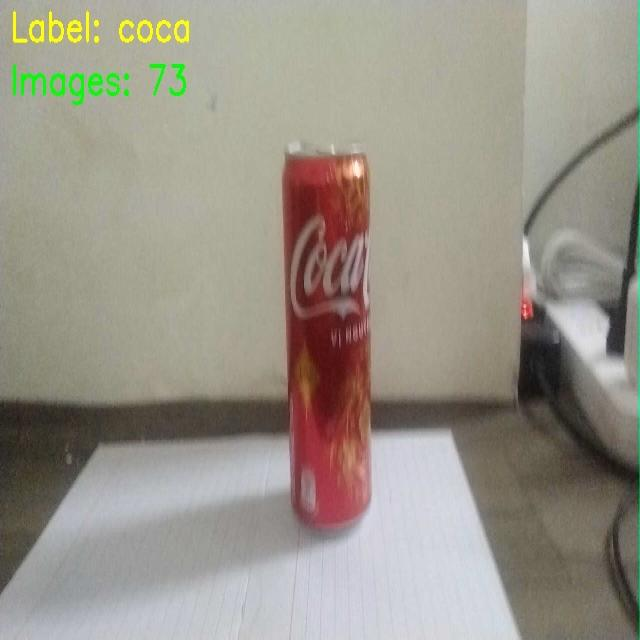Coca: (255, 126, 412, 539)
